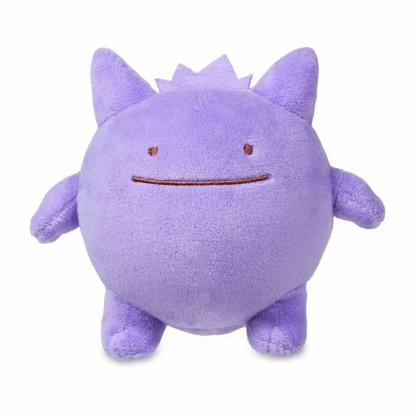Gengar: (30, 36, 392, 364)
